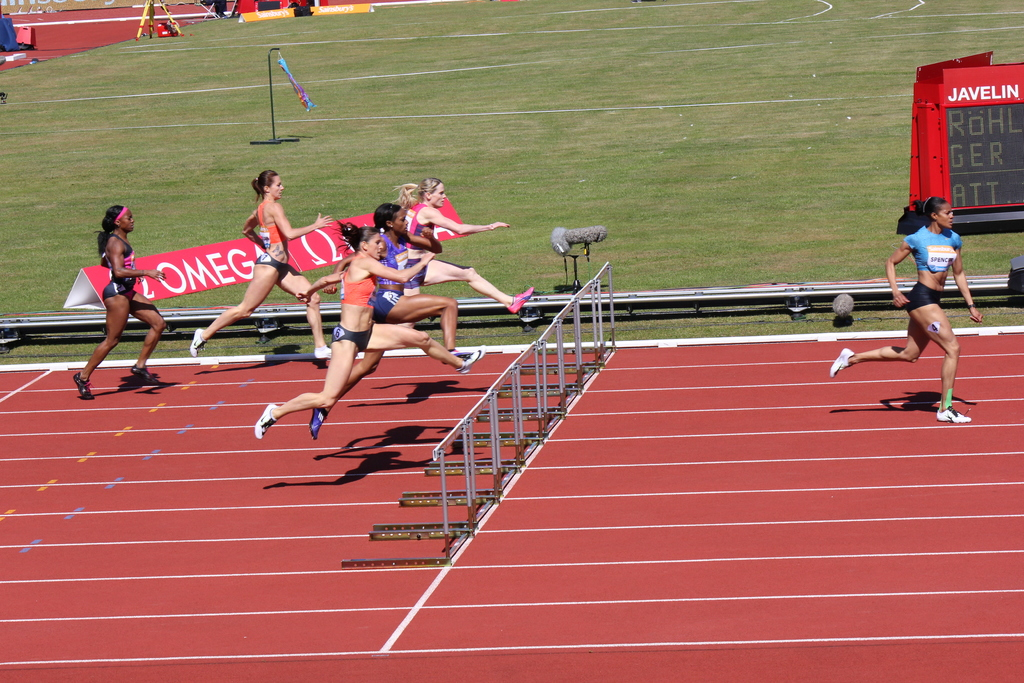Person: (73, 170, 983, 440)
